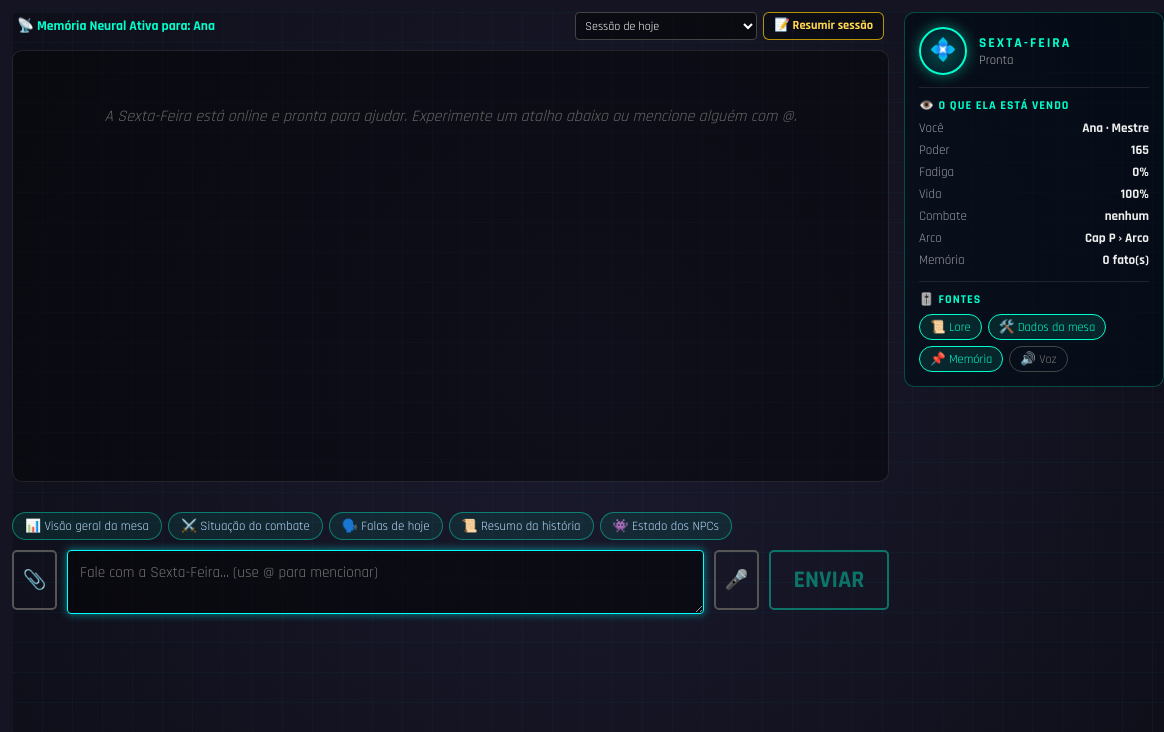
Test: CartaoProposta - Mestre › alvo diferente aparece como "para Bruno"
Type "crie algo" into the text box named "Mensagem para a Sexta-Feira" at [386, 582], box x1=67 y1=550 x2=704 y2=614
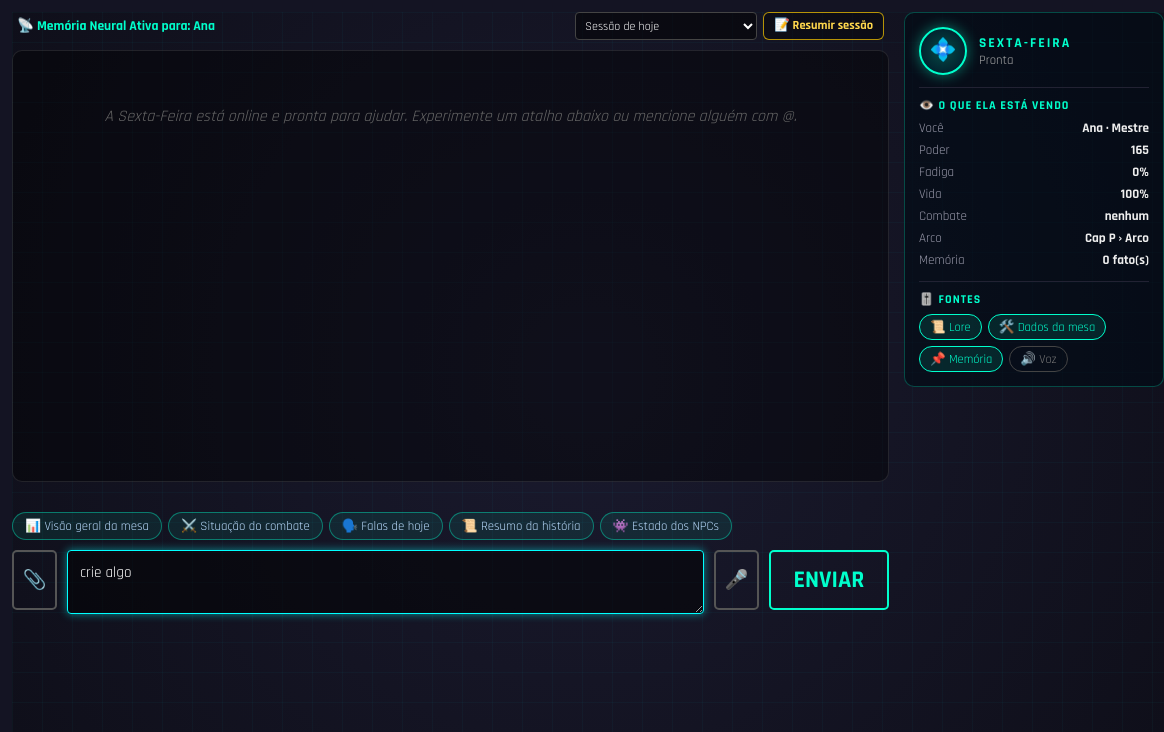
Click the button "ENVIAR" at [829, 580], box x1=769 y1=550 x2=889 y2=610
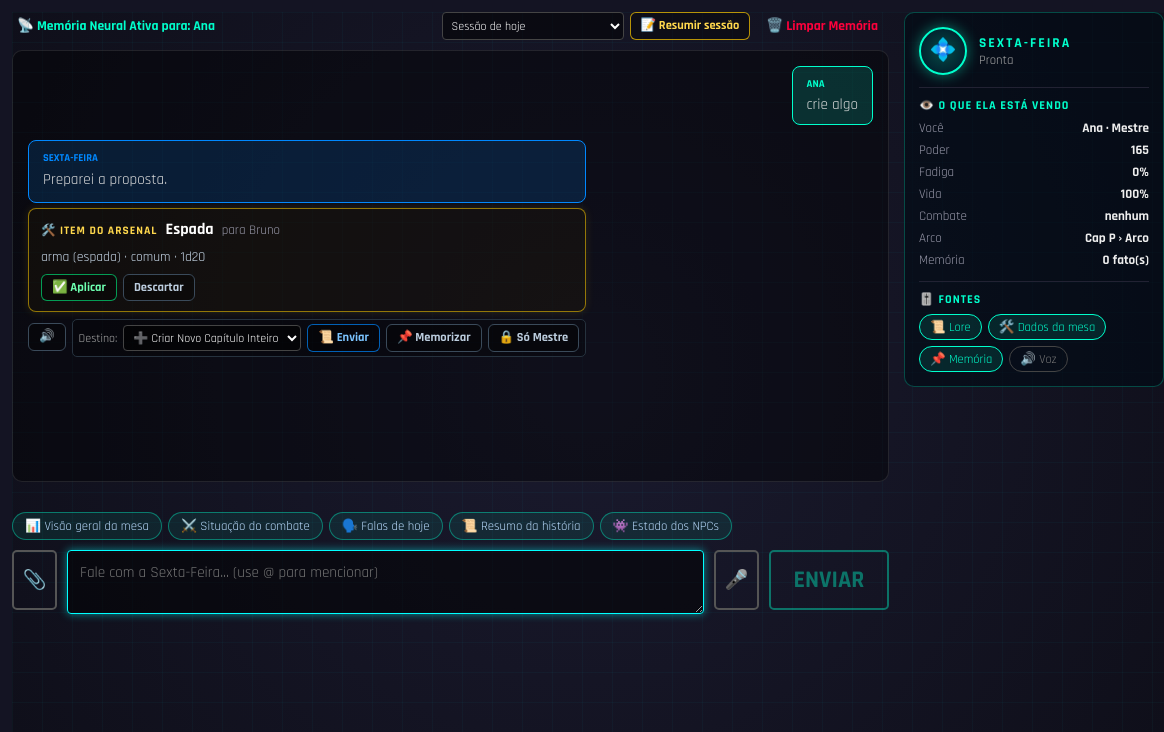
Check: the element with class "sexta-criacao" shows "para Bruno", box x1=28 y1=208 x2=586 y2=312
